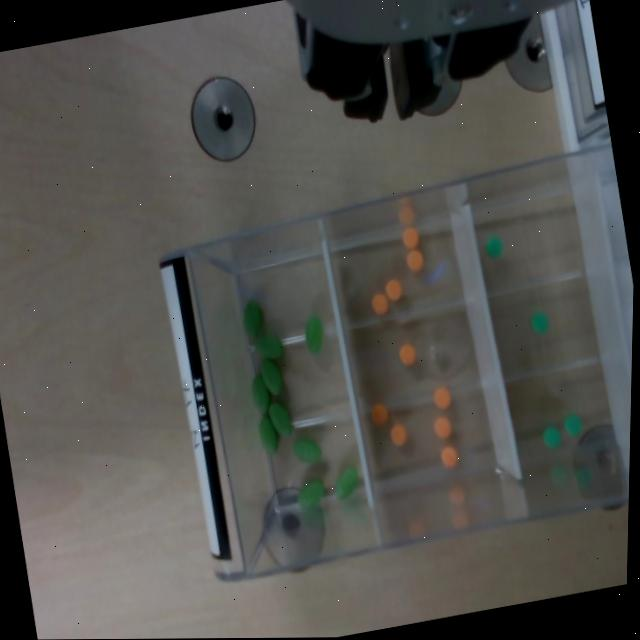famodine: (484, 234, 505, 261), (540, 426, 562, 451), (563, 413, 584, 439), (530, 311, 550, 336)
otillen_tab: (332, 464, 362, 500), (295, 476, 327, 508), (259, 357, 284, 396), (268, 400, 292, 439), (241, 300, 265, 338), (302, 317, 326, 354), (253, 332, 283, 361), (257, 415, 278, 456), (250, 375, 271, 414), (293, 436, 322, 464), (243, 302, 262, 344), (260, 359, 282, 395), (297, 480, 324, 509), (335, 467, 358, 501), (268, 402, 291, 436), (259, 414, 278, 454), (293, 437, 321, 464), (304, 316, 323, 354), (251, 373, 269, 413), (255, 334, 282, 359)
samsung_octylonium_tab: (433, 415, 453, 440), (368, 402, 388, 427), (432, 386, 452, 410), (389, 423, 408, 448), (401, 225, 420, 250), (398, 343, 417, 367), (405, 249, 424, 273), (371, 291, 389, 316), (440, 445, 459, 468), (384, 278, 402, 302)
